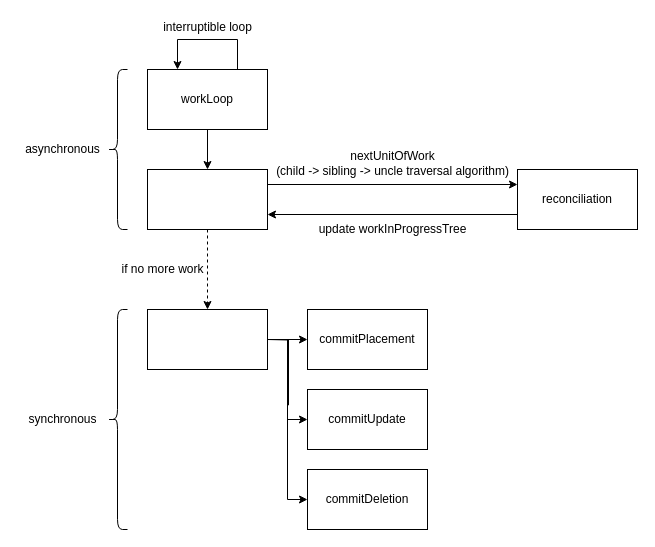
This 655x547 diagram has some shape labels left out. The box of each missing label's shape, as (x1, y1, x2, y2) in pixels:
commitWork: (146, 308, 268, 370)
performUnitOfWork: (146, 168, 268, 230)
